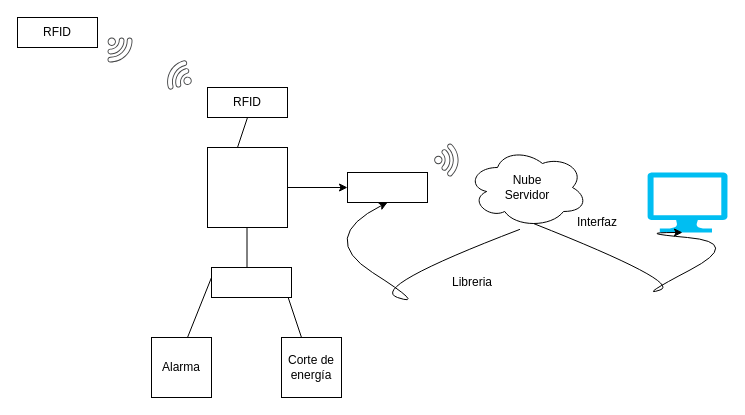
This 745x415 diagram has some shape labels left out. The shapes that lost their labels are listed below. From the top down, each one's centre as x and y in pixels, then its label:
At point (247, 187): "MC".
At point (387, 187): "Helium".
At point (251, 282): "relé".
